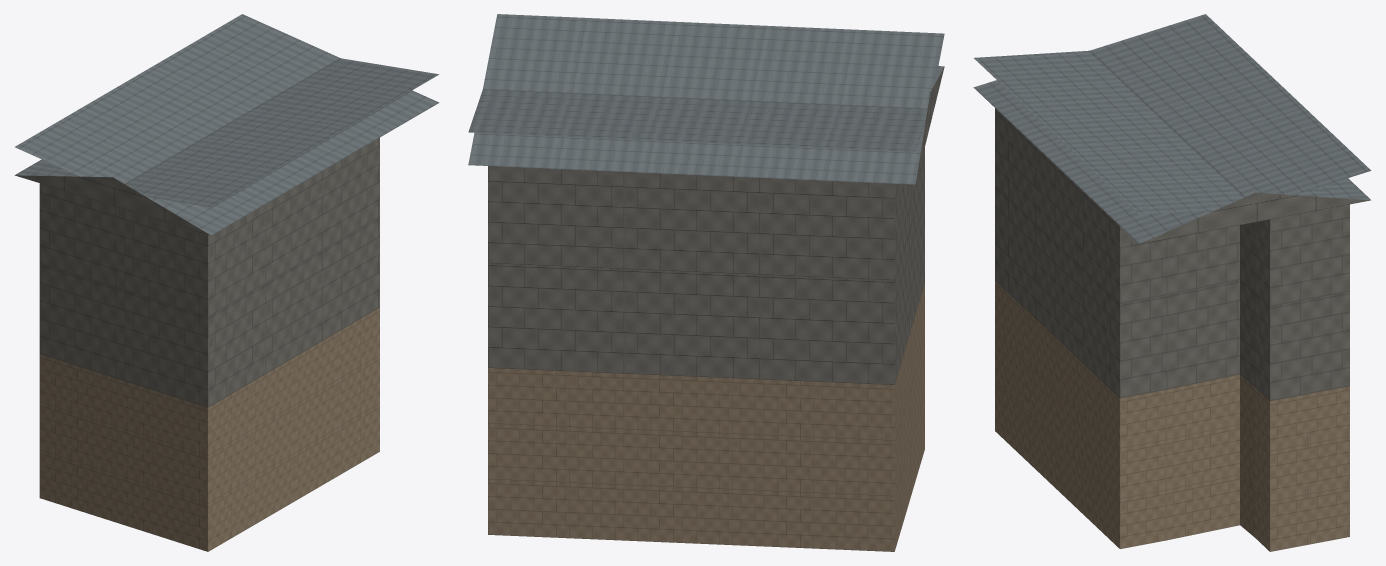
File: bld_c9_25_408.gltf
3 renders of one model, left to right at view 1: azimuth 30°, elevation 25°; view 2: azimuth 150°, elevation 25°; view 3: azimuth 270°, elevation 25°, orthographic. The views are drawn at different scales.
Visible parts, largest first — view 1: bld_c9_25_408; view 2: bld_c9_25_408; view 3: bld_c9_25_408.
Part boxes in pixels (x1=…): bld_c9_25_408: x1=14, y1=14, x2=439, y2=551; bld_c9_25_408: x1=468, y1=14, x2=944, y2=551; bld_c9_25_408: x1=973, y1=14, x2=1371, y2=551.
Size of the model in its own units: 14.55 by 12.5 by 12.2.
Materials: 4 (4 with a texture image).
